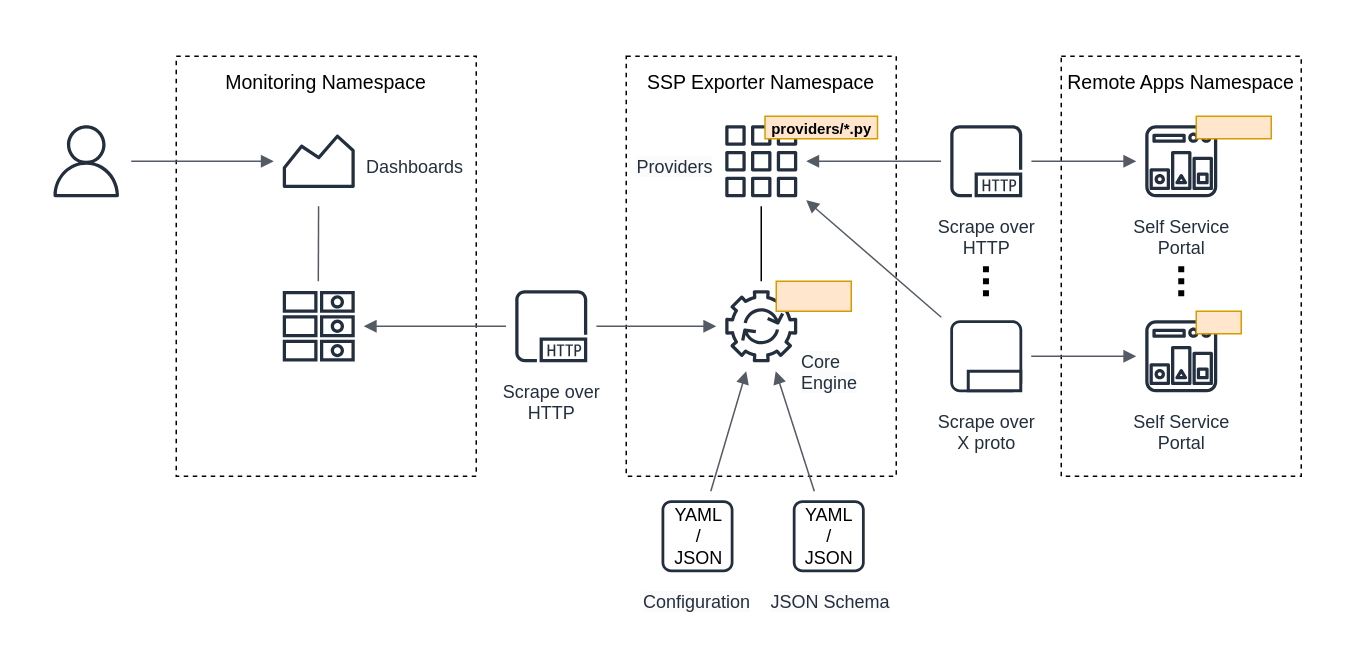
Image size: 1356x651. Some labels were removed from this diagram. Each missing label, with the box of its shape:
API: (1195, 310, 1241, 334)
Collector + TSDB: (272, 280, 364, 371)
Frontend: (1195, 115, 1271, 139)
gRPC: (966, 369, 1022, 392)
main.py: (775, 280, 851, 311)
Operator: (40, 115, 131, 206)
